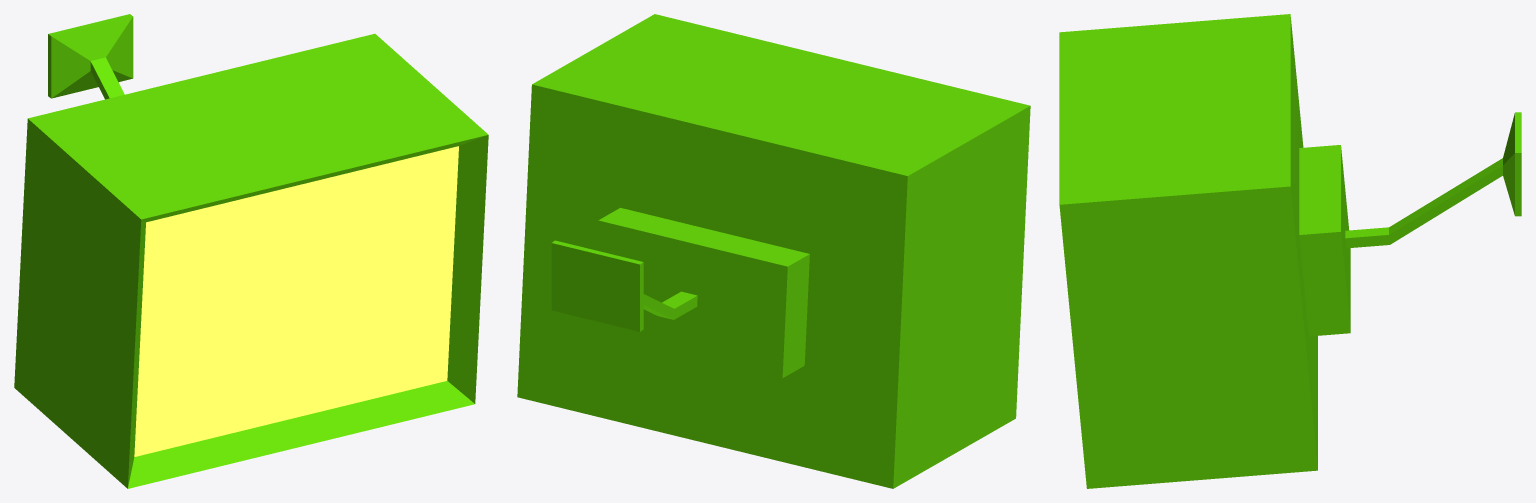
File: WallLight.FBX
3 renders of one model, left to right at view 1: azimuth 30°, elevation 25°; view 2: azimuth 150°, elevation 25°; view 3: azimuth 270°, elevation 25°, orthographic. The views are drawn at different scales.
Parts seen in each view (by area): view 1: WallLight; view 2: WallLight; view 3: WallLight.
Part boxes in pixels (<box>): WallLight: <box>14,14,488,488</box>; WallLight: <box>517,14,1030,488</box>; WallLight: <box>1059,14,1521,488</box>.
Bounding box in the file's own units: 8.07 × 6.6 × 9.13.
